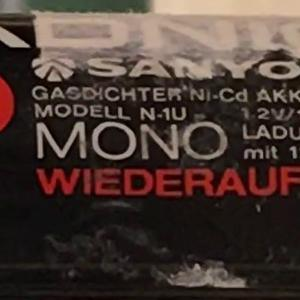NI-CD: (174, 80, 257, 104)
